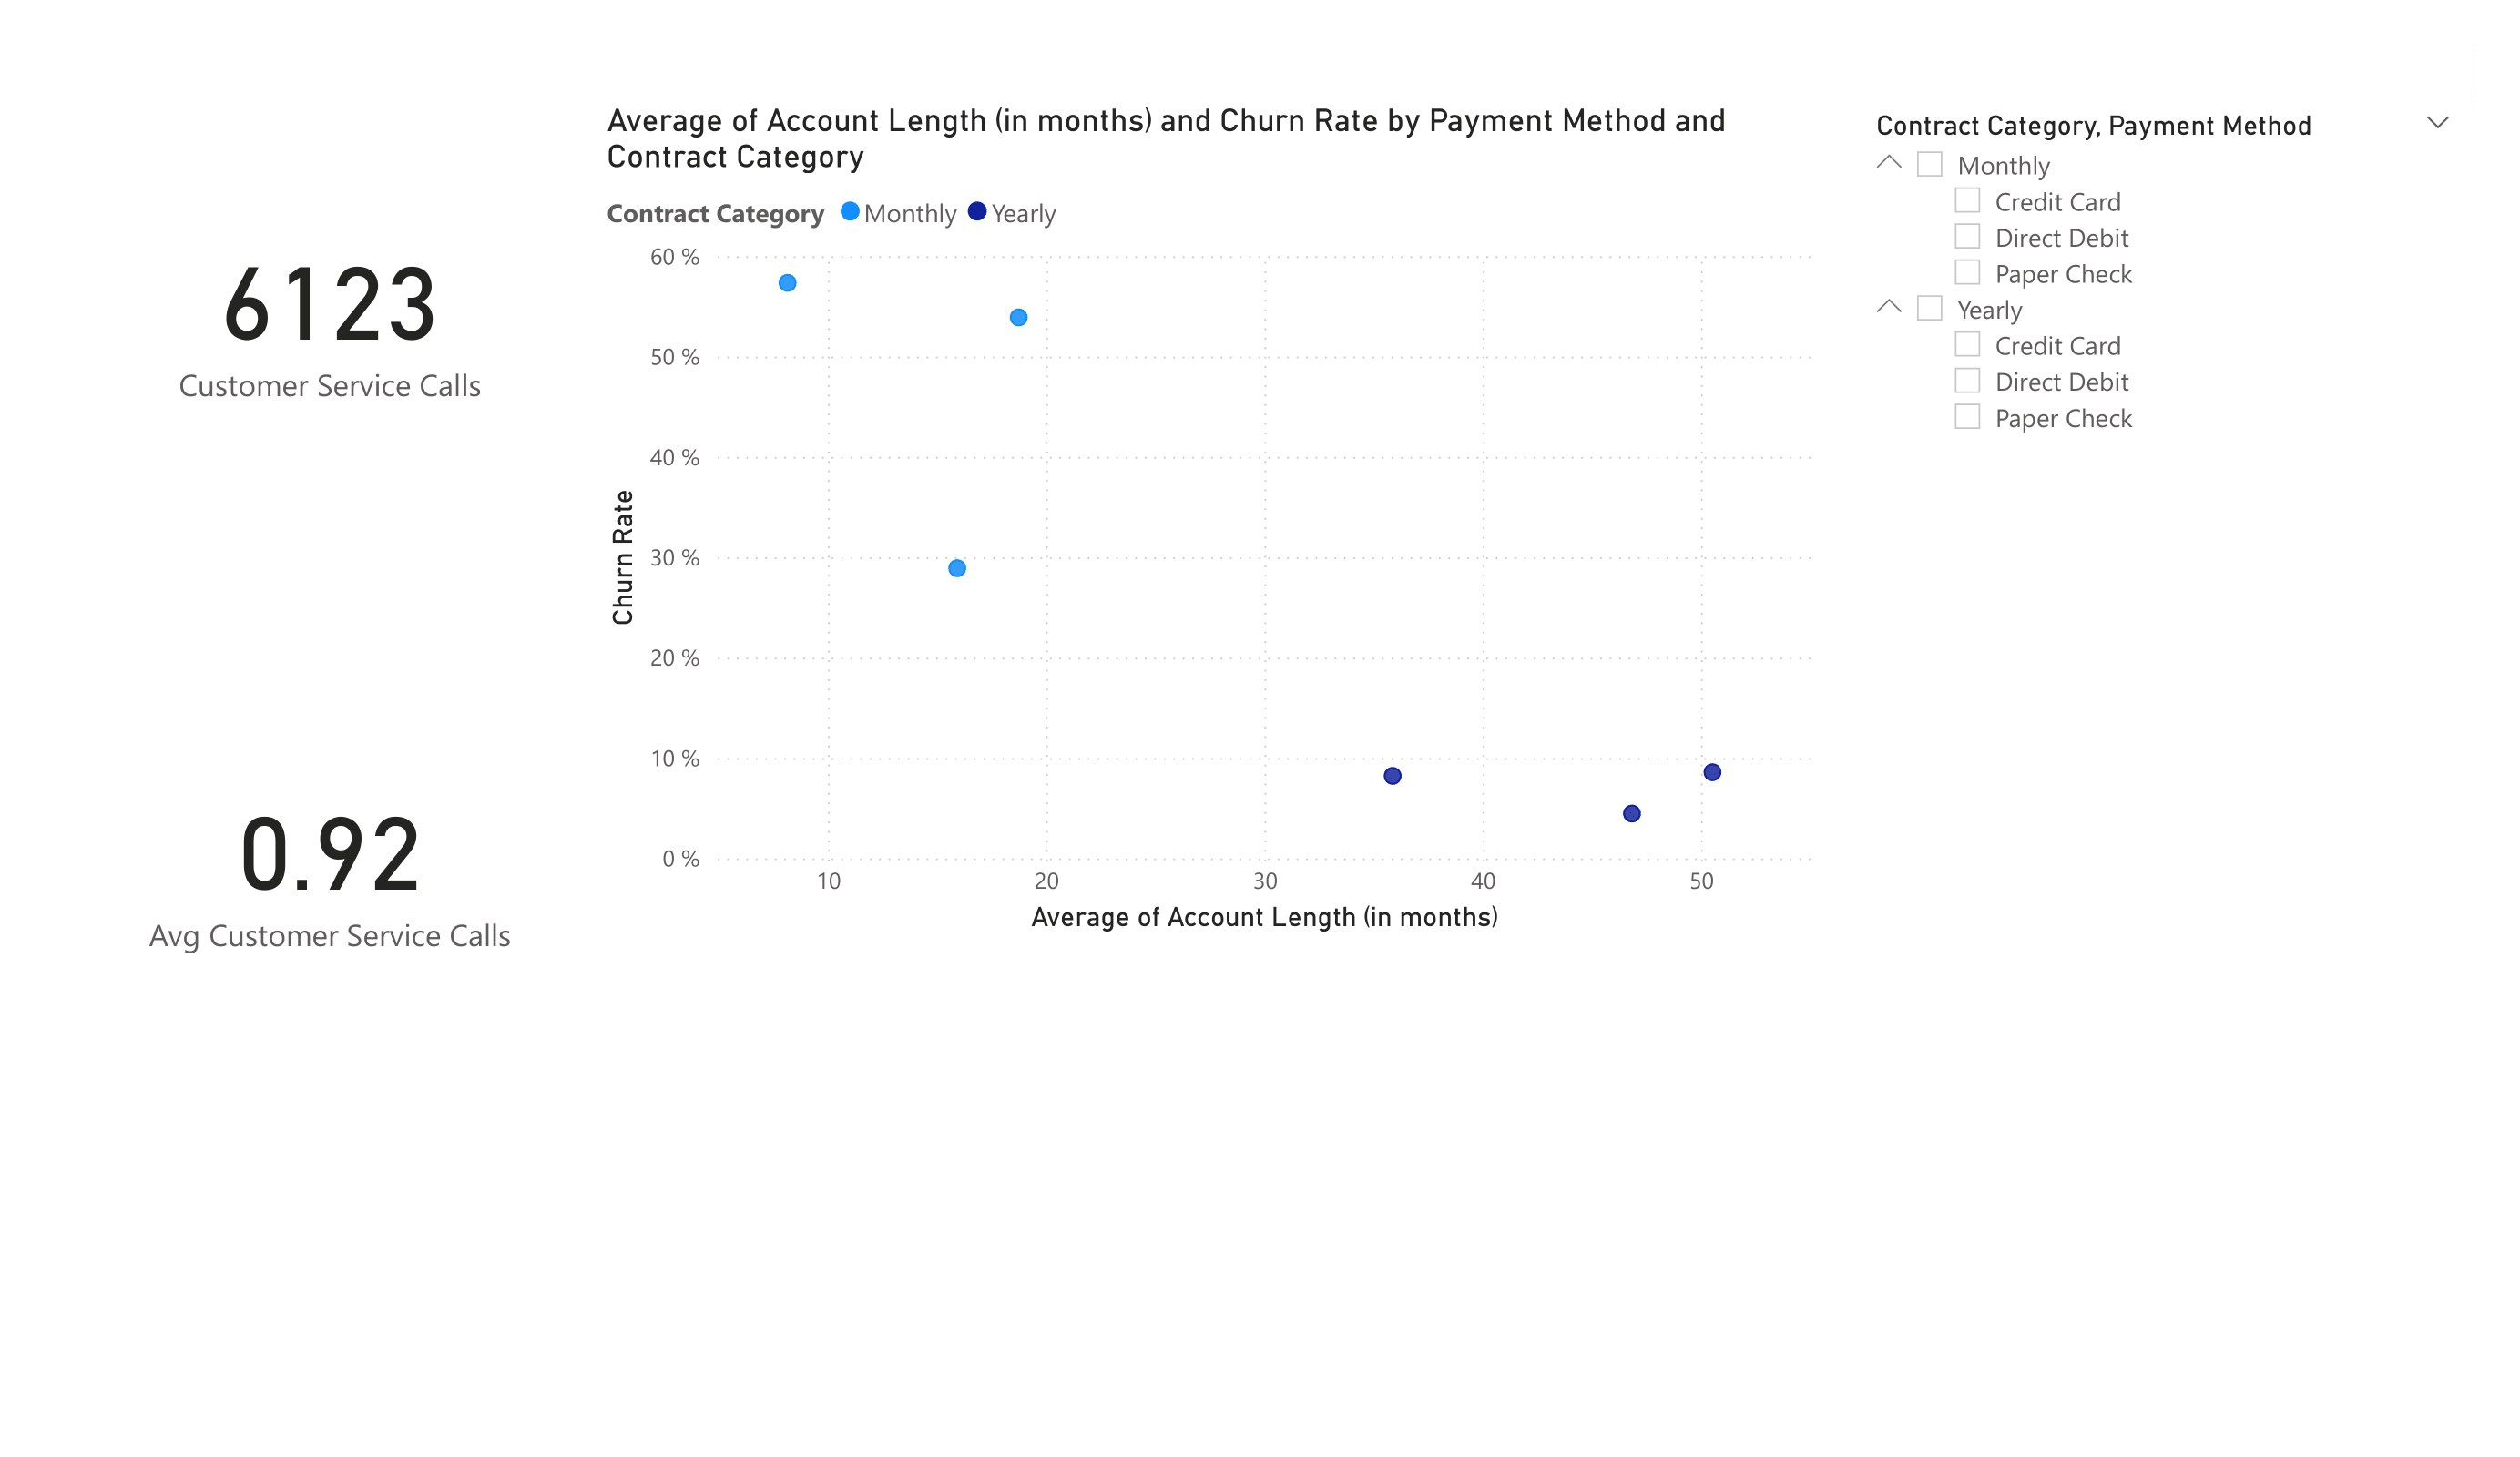

Layout of this report page (visuals, bound fields, positions):
{"tool":"powerbi","page":{"name":"Payment and contract","canvas":[1280,720],"ordinal":7},"visuals":[{"type":"card","fields":{"Values":["Sum(Databel - Data.Customer Service Calls)"]},"box":[10,0,280,280],"z":0},{"type":"scatterChart","fields":{"Category":["Databel - Data.Payment Method"],"X":["Databel - Data.Account Length (in months)"],"Y":["Databel - Data.Churn Rate"],"Series":["Databel - Data.Contract Category"]},"box":[476.1,14.7,429.4,345.4],"z":0},{"type":"card","fields":{"Values":["Databel - Data.Avg Customer Service Calls"]},"box":[10,290,280,280],"z":1},{"type":"slicer","fields":{"Values":["Databel - Data.Contract Category","Databel - Data.Payment Method"]},"box":[915,15,365,345],"z":2}]}

Visuals, with their boxes in screenshot pixels (x1, y1, x2, y2):
card - Sum(Databel - Data.Customer Service Calls): select_region(65, 46, 596, 576)
scatterChart - Databel - Data.Payment Method x Databel - Data.Account Length (in months): select_region(949, 74, 1764, 728)
card - Databel - Data.Avg Customer Service Calls: select_region(65, 596, 596, 1127)
slicer - Databel - Data.Contract Category x Databel - Data.Payment Method: select_region(1781, 74, 2474, 728)
